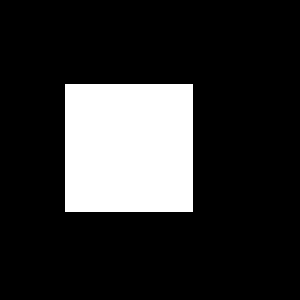circle: (65, 84, 193, 212)
